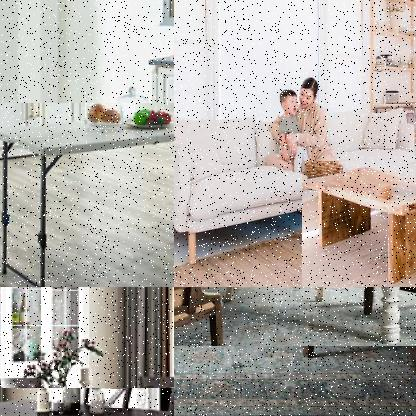table: (0, 102, 173, 286), (174, 287, 415, 348), (301, 161, 415, 286), (0, 388, 173, 415)
